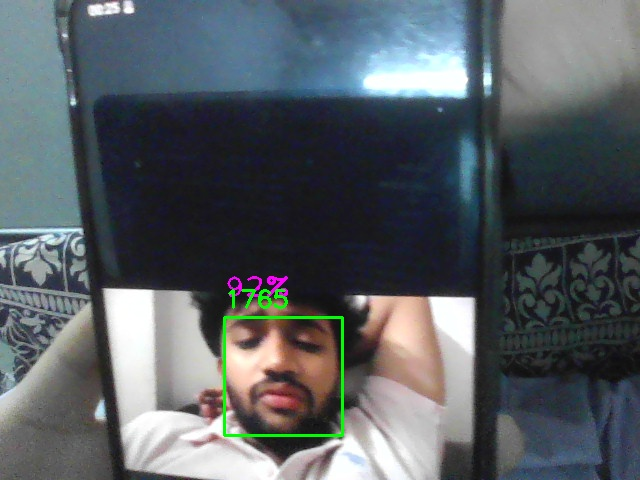fake: (224, 317, 343, 436)
